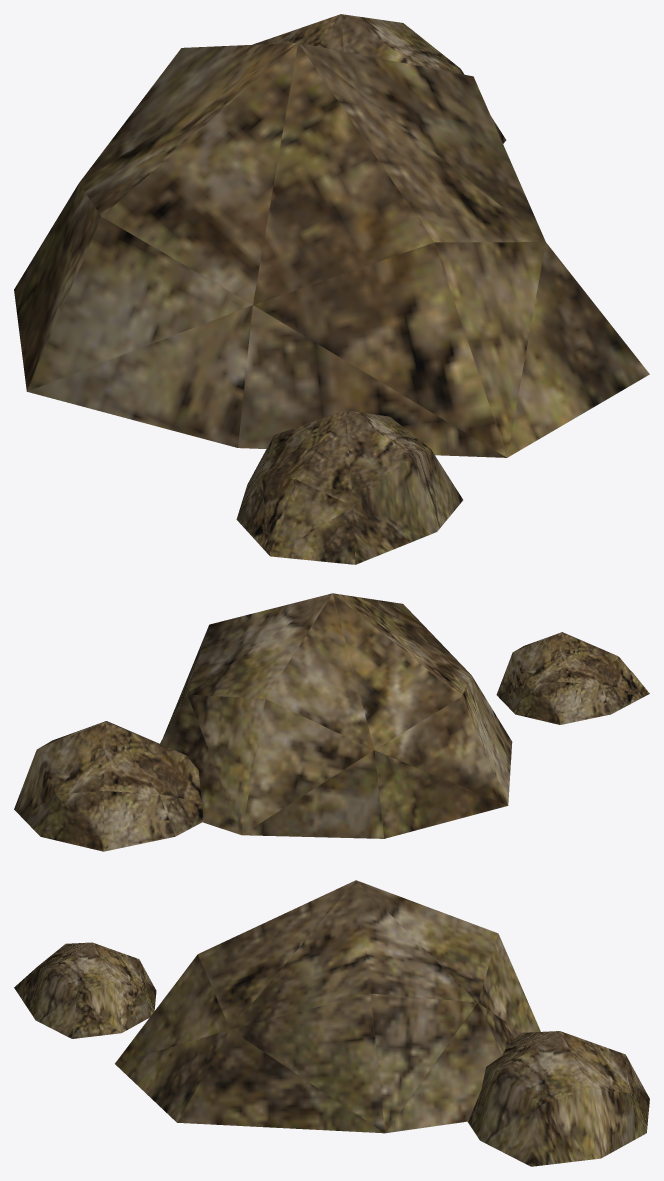
The picture shows the model from 3 angles, top to bottom: view 1: azimuth 30°, elevation 25°; view 2: azimuth 150°, elevation 25°; view 3: azimuth 270°, elevation 25°; orthographic projection. The views are drawn at different scales.
Parts seen in each view (by area): view 1: a7; view 2: a7; view 3: a7.
Boxes of the visible parts, x1=… form: a7: x1=14, y1=14, x2=649, y2=564; a7: x1=14, y1=593, x2=649, y2=851; a7: x1=14, y1=880, x2=649, y2=1166.
Bounding box in the file's own units: 371 × 161 × 517.
1 material, 1 textured.
